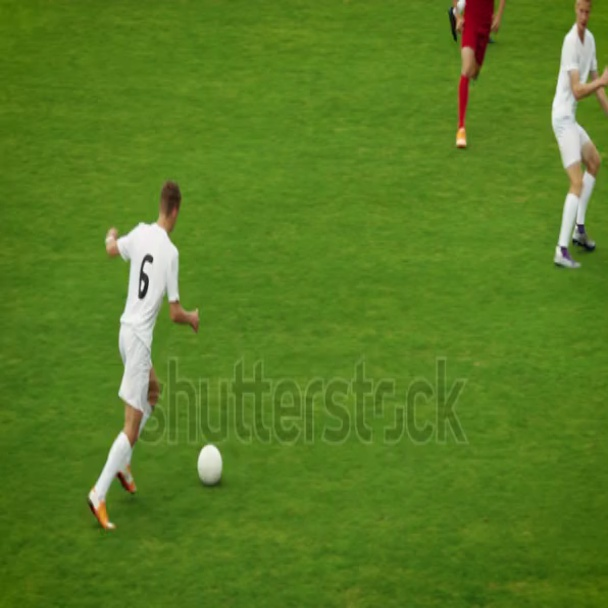ball: (194, 441, 226, 490)
